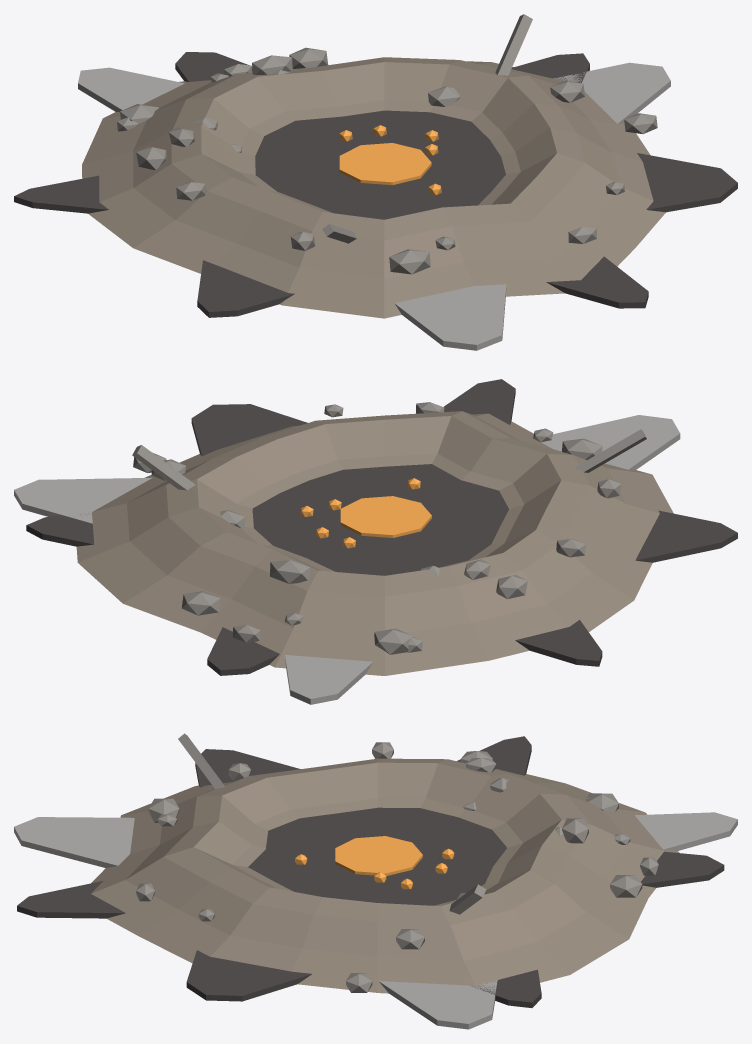
The model's file is civ_fx_crater.glb.
The picture shows the model from 3 angles, top to bottom: view 1: azimuth 30°, elevation 25°; view 2: azimuth 150°, elevation 25°; view 3: azimuth 270°, elevation 25°; orthographic projection. The views are drawn at different scales.
Visible parts, largest first — view 1: civ_fx_crater; view 2: civ_fx_crater; view 3: civ_fx_crater.
Part boxes in pixels (box(x1,y1,x2,y2)): civ_fx_crater: box(14, 14, 737, 350); civ_fx_crater: box(14, 379, 737, 704); civ_fx_crater: box(14, 733, 737, 1029).
Size of the model in its own units: 3.32 by 0.447 by 3.53.
